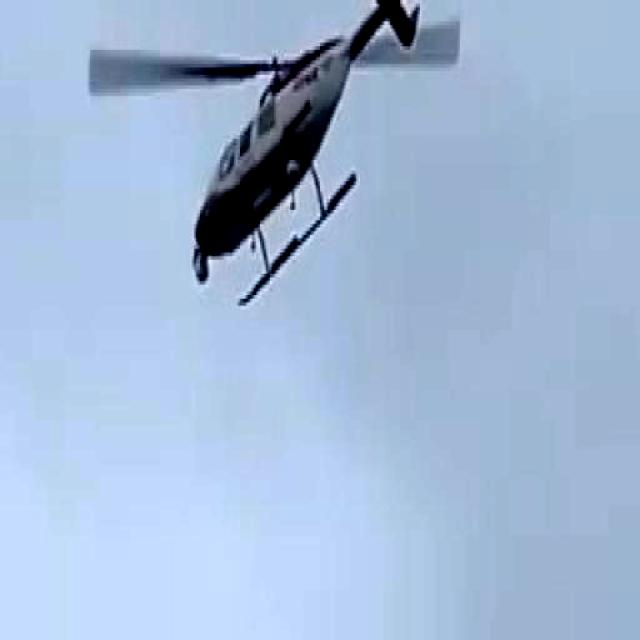drone: (82, 0, 481, 308)
